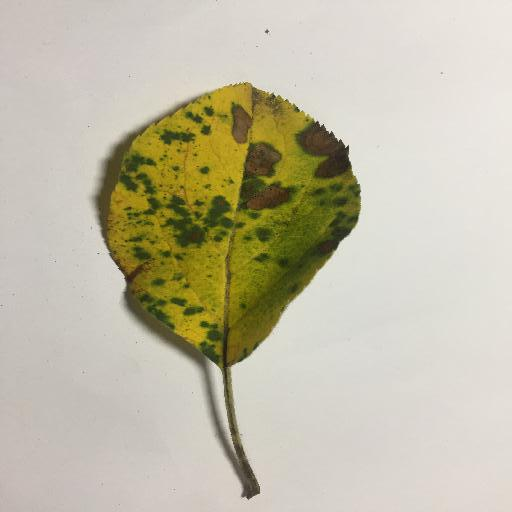Brown_Spot: (241, 189, 293, 209), (312, 151, 350, 173), (298, 129, 337, 149), (180, 231, 228, 247), (118, 260, 143, 290), (248, 149, 279, 172), (231, 106, 249, 143), (316, 238, 342, 255)
